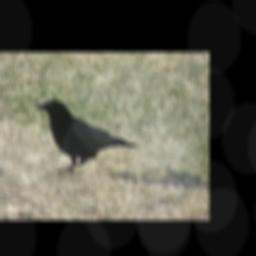Crow: (32, 97, 134, 172)
